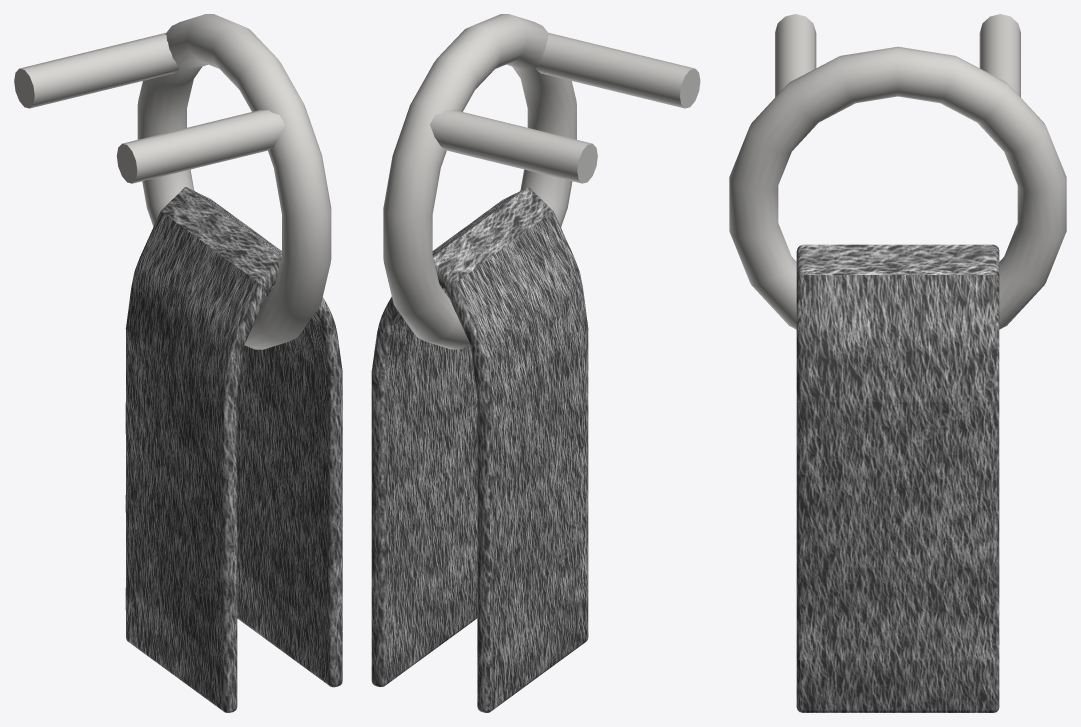
The model's file is Bathroom_Havlu.fbx.
The picture shows the model from 3 angles, left to right: view 1: azimuth 30°, elevation 25°; view 2: azimuth 150°, elevation 25°; view 3: azimuth 270°, elevation 25°; orthographic projection.
Parts seen in each view (by area): view 1: Plane.008, Torus, Cylinder.013; view 2: Plane.008, Torus, Cylinder.013; view 3: Plane.008, Torus, Cylinder.013.
Boxes of the visible parts, x1,y1,x2,y2 form: Plane.008: [125, 187, 342, 712]; Torus: [137, 14, 331, 349]; Cylinder.013: [14, 33, 284, 183]; Plane.008: [371, 187, 588, 712]; Torus: [383, 14, 576, 349]; Cylinder.013: [430, 32, 700, 183]; Plane.008: [796, 244, 999, 712]; Torus: [729, 46, 1066, 329]; Cylinder.013: [775, 14, 1020, 97].
Bounding box in the file's own units: 24.27 × 67.63 × 32.48.
Materials: 1 (1 with a texture image).
